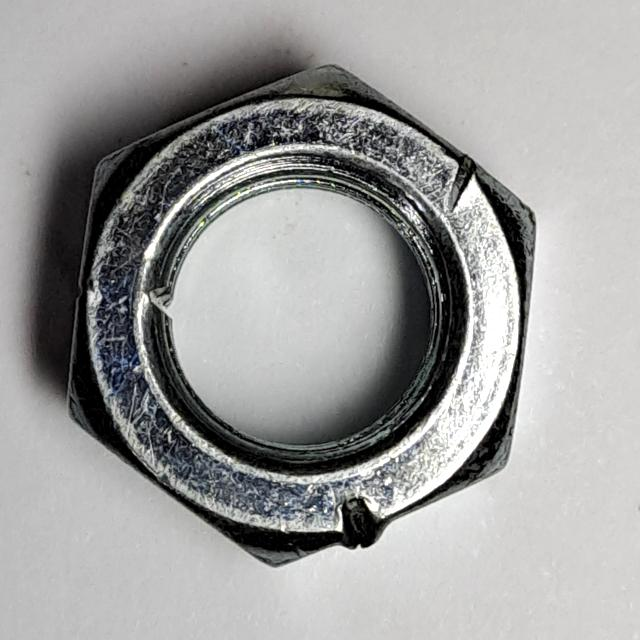Scratches: (55, 51, 545, 585)
